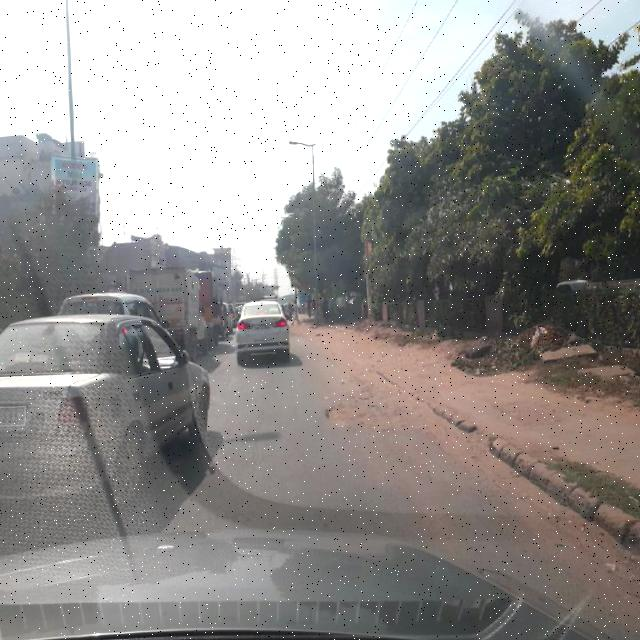D40: (306, 371, 407, 428)
